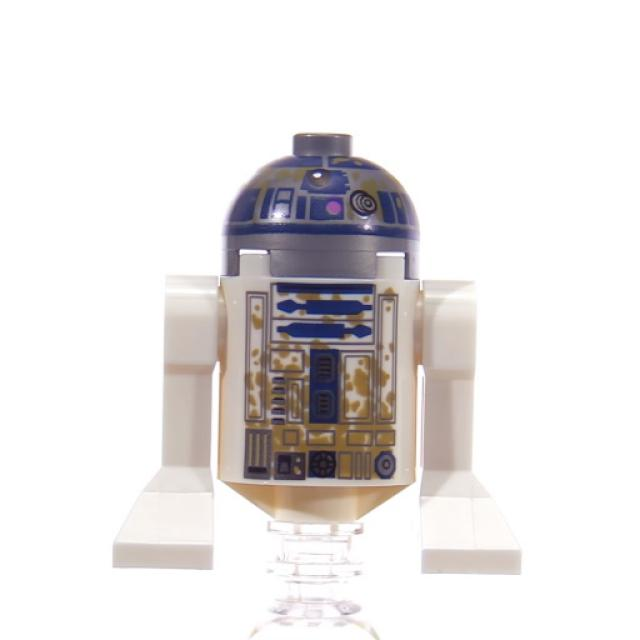Lego-Minifigures: (77, 82, 549, 613)
